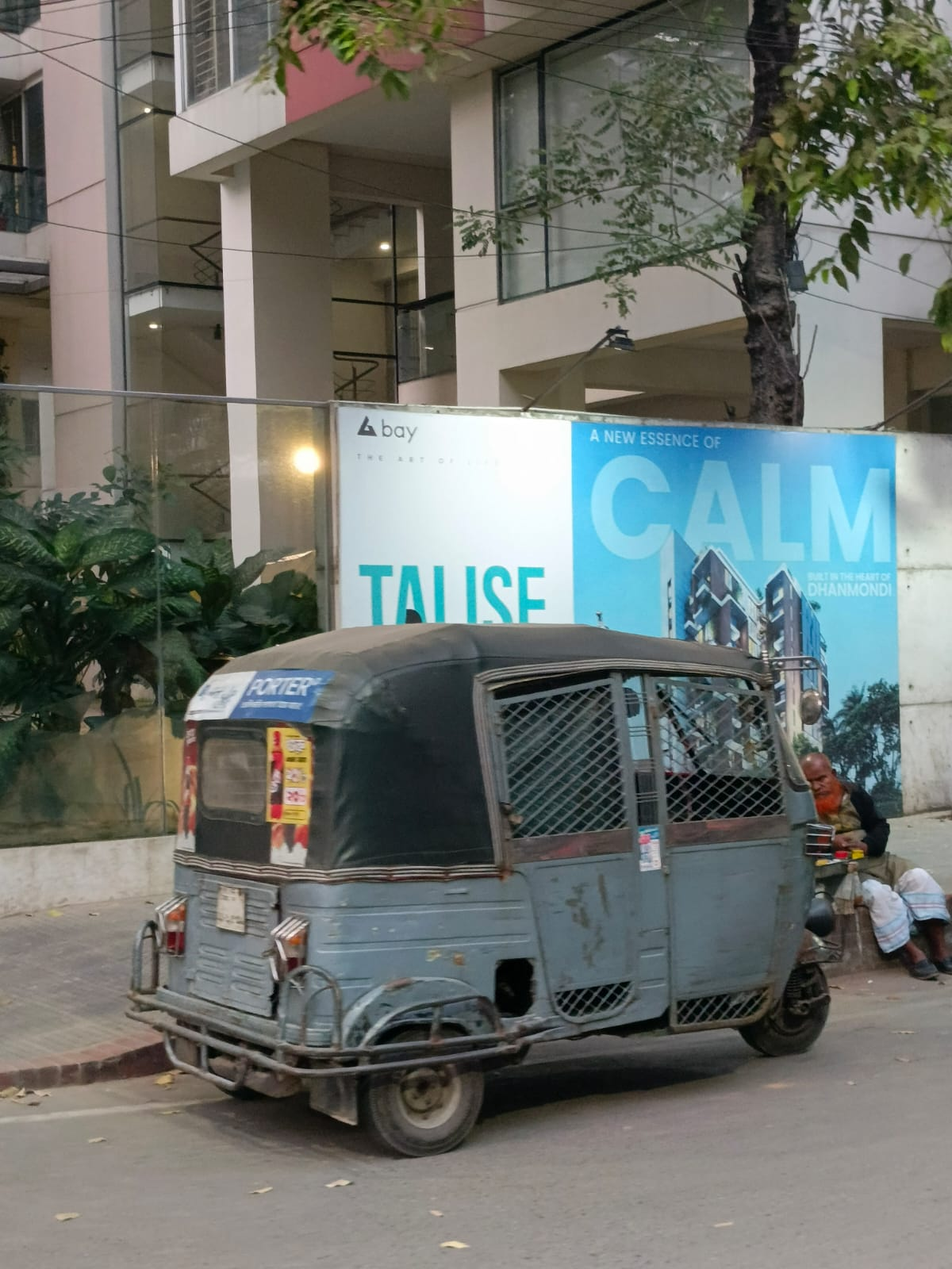auto-ricksaw: (123, 608, 854, 1163)
